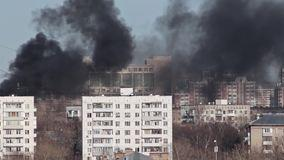smoke: (205, 15, 273, 64), (14, 49, 78, 89), (96, 14, 125, 69)
